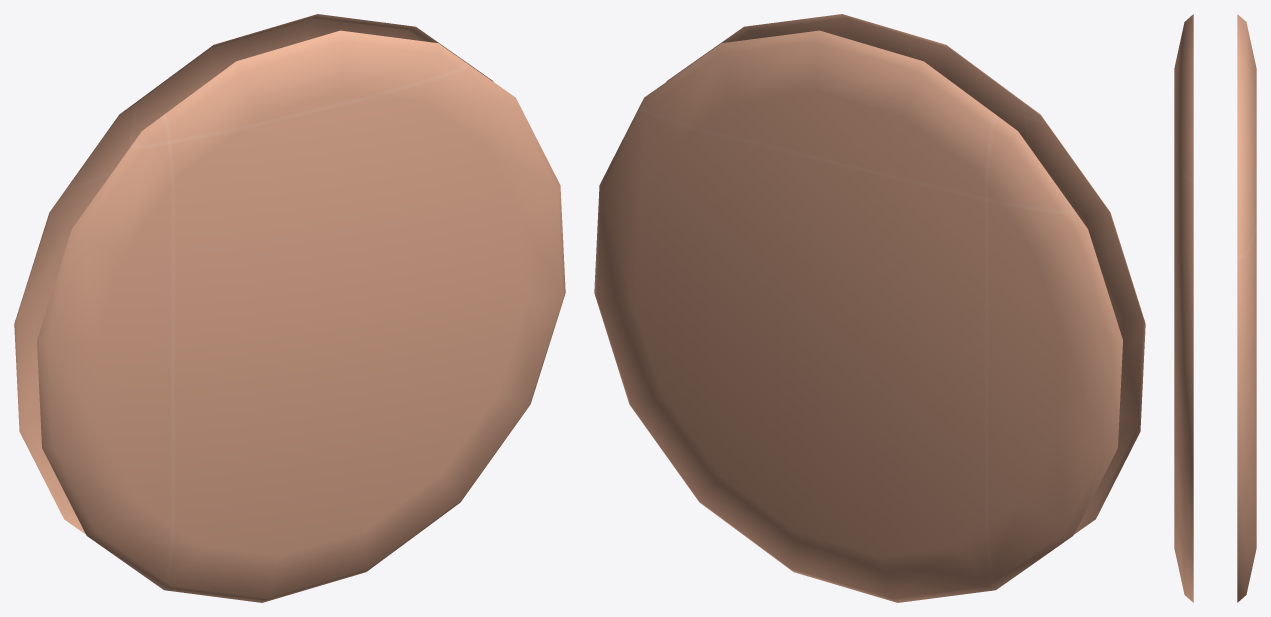
Rendered from MeshKeychain1_0_GeomSubset_3.obj.
3 views of the same model, side by side, from view 1: azimuth 30°, elevation 25°; view 2: azimuth 150°, elevation 25°; view 3: azimuth 270°, elevation 25° (orthographic). The views are drawn at different scales.
Visible parts, largest first — view 1: MeshKeychain1_0_GeomSubset_3; view 2: MeshKeychain1_0_GeomSubset_3; view 3: MeshKeychain1_0_GeomSubset_3.
Boxes of the visible parts, x1,y1,x2,y2 form: MeshKeychain1_0_GeomSubset_3: (14, 14, 565, 602); MeshKeychain1_0_GeomSubset_3: (594, 14, 1145, 602); MeshKeychain1_0_GeomSubset_3: (1174, 14, 1256, 602).
Bounding box in the file's own units: 0.0276 × 0.0276 × 0.00384.
